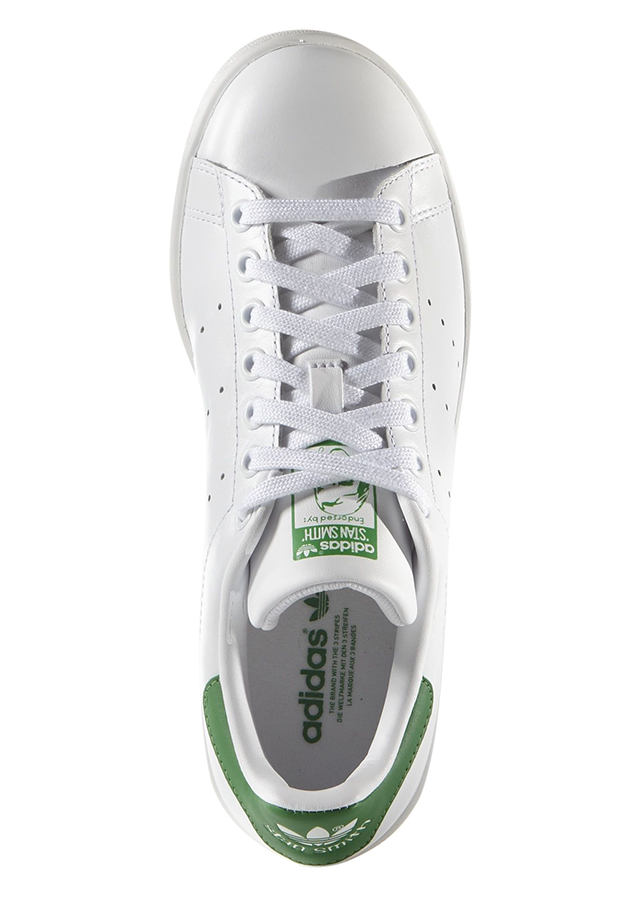Adidas: (293, 579, 330, 752), (267, 815, 364, 852), (291, 537, 379, 562)
